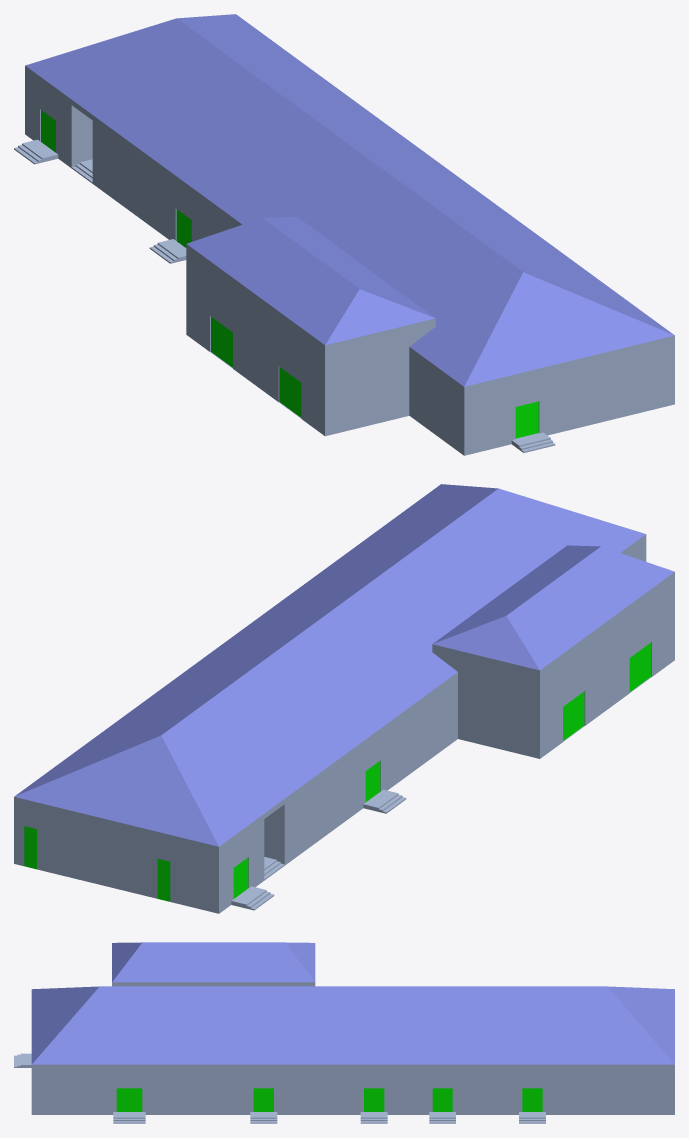
File: 35kV_Substation.glb
The picture shows the model from 3 angles, top to bottom: view 1: azimuth 30°, elevation 25°; view 2: azimuth 150°, elevation 25°; view 3: azimuth 270°, elevation 25°; orthographic projection. The views are drawn at different scales.
Visible parts, largest first — view 1: Roof, Floor1; view 2: Roof, Floor1; view 3: Roof, Floor1.
Boxes of the visible parts, x1=… form: Roof: x1=25, y1=14, x2=674, y2=392; Floor1: x1=14, y1=71, x2=674, y2=455; Roof: x1=14, y1=484, x2=674, y2=851; Floor1: x1=14, y1=540, x2=674, y2=913; Roof: x1=31, y1=942, x2=674, y2=1068; Floor1: x1=14, y1=1053, x2=674, y2=1123.
Bounding box in the file's own units: 24.2 × 9 × 59.32.
